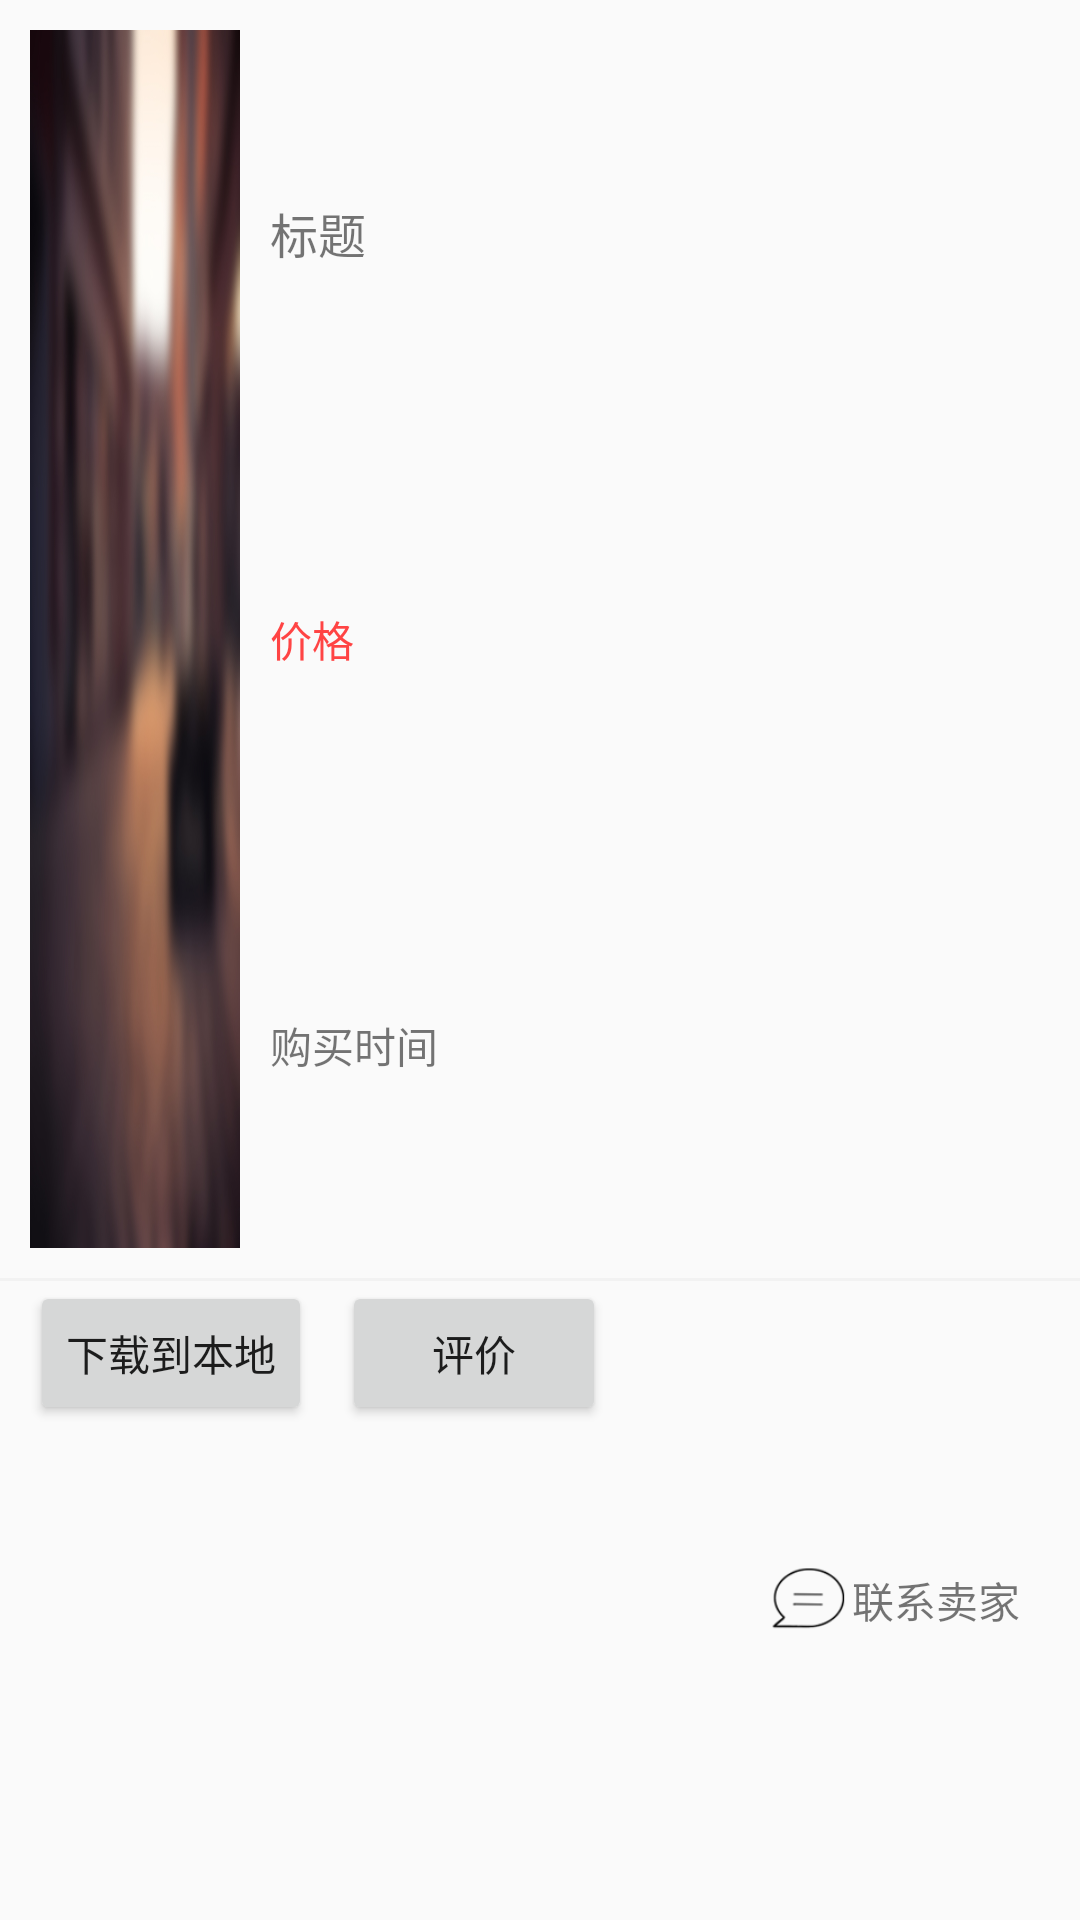

Where to tap for icons on this 1080 x 1920 app screen, as (x,y):
xiaoxi: (808,1598)
